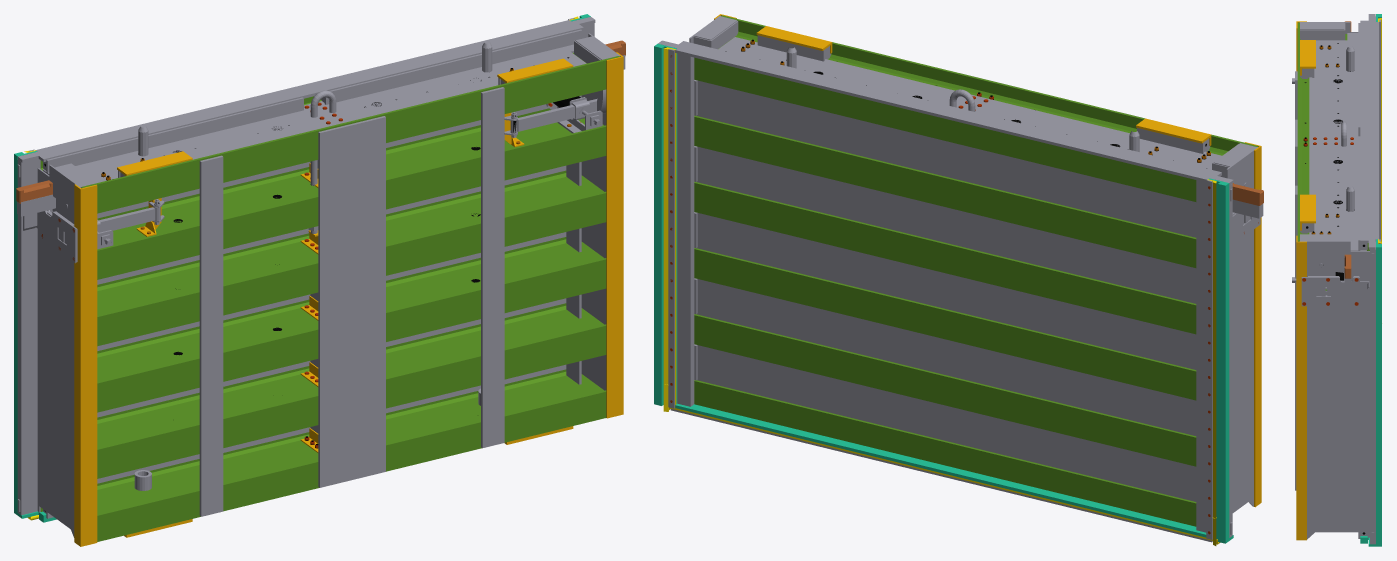
File: Stoplog.glb
The picture shows the model from 3 angles, left to right: view 1: azimuth 30°, elevation 25°; view 2: azimuth 150°, elevation 25°; view 3: azimuth 270°, elevation 25°; orthographic projection. The views are drawn at different scales.
Parts seen in each view (by area): view 1: empty_1297, empty_1293, empty_76, empty_1292, empty_50, empty_75, empty_49, empty_32, empty_34, empty_69, empty_71, empty_72 (+6 smaller); view 2: empty_1297, empty_1293, empty_73, empty_69, empty_72, empty_71, empty_70, empty_74, empty_1295, empty_49, empty_110, empty_1294 (+2 smaller); view 3: empty_1293, empty_1292, empty_1297, empty_109, empty_74, empty_75, empty_44, empty_59, empty_34, empty_32, empty_1295, empty_1296 (+2 smaller).
Part boxes in pixels (x1=…): empty_1297: x1=40, y1=52, x2=619, y2=541; empty_1293: x1=18, y1=17, x2=620, y2=537; empty_76: x1=318, y1=116, x2=385, y2=487; empty_1292: x1=74, y1=52, x2=623, y2=546; empty_50: x1=199, y1=155, x2=223, y2=516; empty_75: x1=481, y1=87, x2=504, y2=448; empty_49: x1=17, y1=158, x2=40, y2=515; empty_32: x1=46, y1=97, x2=303, y2=172; empty_34: x1=324, y1=29, x2=582, y2=104; empty_69: x1=97, y1=232, x2=566, y2=350; empty_71: x1=97, y1=298, x2=566, y2=417; empty_72: x1=97, y1=165, x2=566, y2=284; empty_1297: x1=694, y1=15, x2=1258, y2=526; empty_1293: x1=658, y1=16, x2=1260, y2=542; empty_73: x1=696, y1=80, x2=1196, y2=237; empty_69: x1=696, y1=213, x2=1196, y2=369; empty_72: x1=697, y1=147, x2=1196, y2=303; empty_71: x1=697, y1=279, x2=1196, y2=435; empty_70: x1=697, y1=345, x2=1196, y2=501; empty_74: x1=677, y1=53, x2=694, y2=406; empty_1295: x1=663, y1=47, x2=1220, y2=545; empty_49: x1=1196, y1=180, x2=1232, y2=537; empty_110: x1=1208, y1=178, x2=1229, y2=543; empty_1294: x1=675, y1=403, x2=1233, y2=540; empty_1293: x1=1299, y1=14, x2=1380, y2=539; empty_1292: x1=1296, y1=21, x2=1315, y2=540; empty_1297: x1=1297, y1=22, x2=1369, y2=290; empty_109: x1=1376, y1=239, x2=1381, y2=546; empty_74: x1=1370, y1=242, x2=1375, y2=544; empty_75: x1=1295, y1=185, x2=1297, y2=490; empty_44: x1=1300, y1=22, x2=1344, y2=29; empty_59: x1=1300, y1=234, x2=1344, y2=241; empty_34: x1=1358, y1=136, x2=1360, y2=250; empty_32: x1=1358, y1=23, x2=1360, y2=136; empty_1295: x1=1378, y1=18, x2=1381, y2=243; empty_1296: x1=1344, y1=21, x2=1351, y2=278.
Bounding box in the file's own units: 5.59 × 3.34 × 0.8696.
